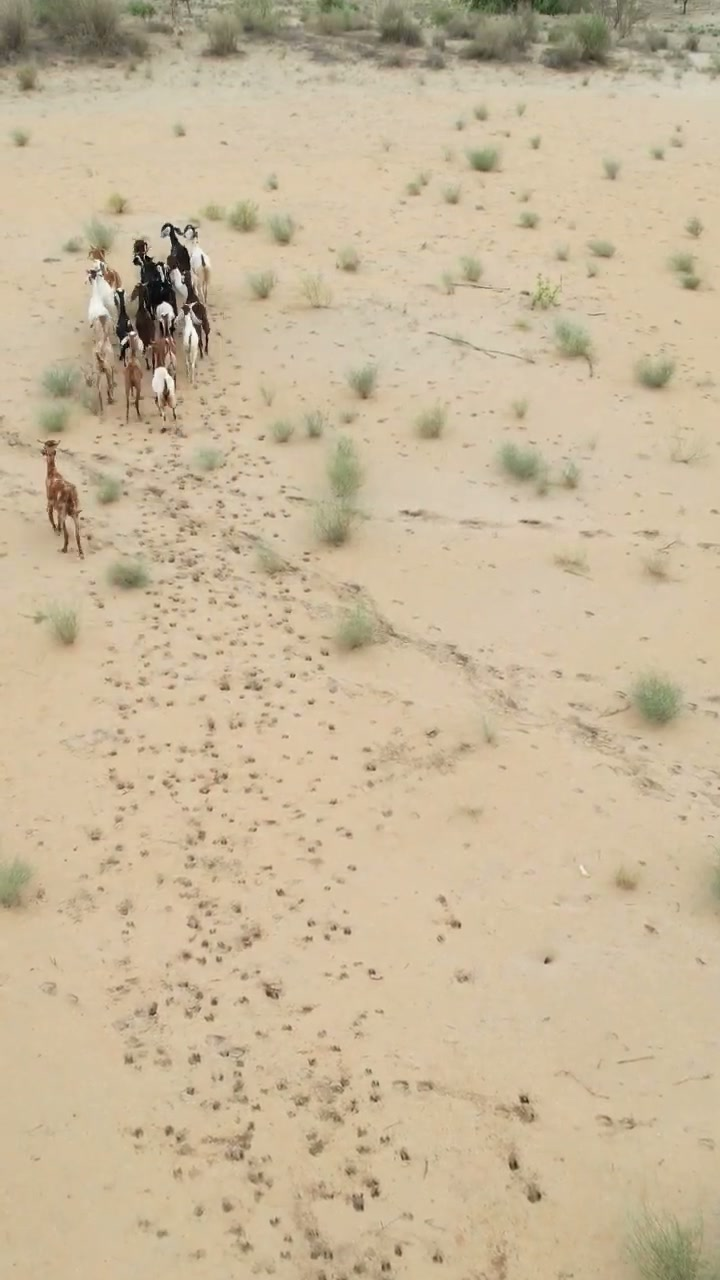animal_footprint: (118, 410, 406, 1259)
